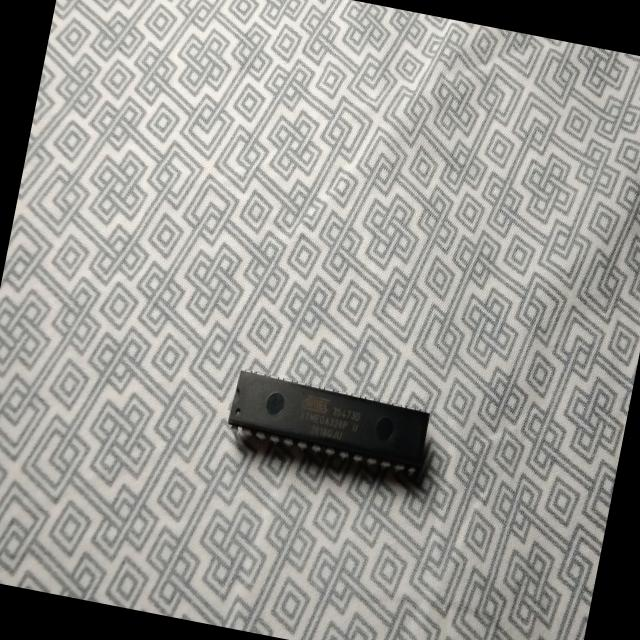atmega: (219, 366, 438, 492)
